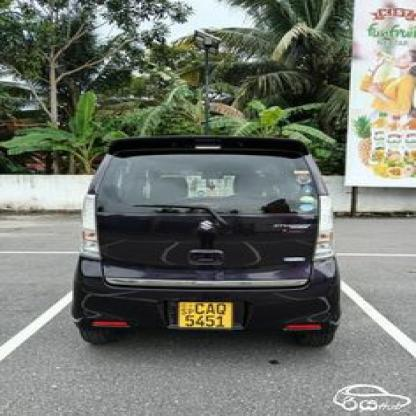car back: (66, 122, 341, 352)
number plate: (175, 303, 230, 330)
